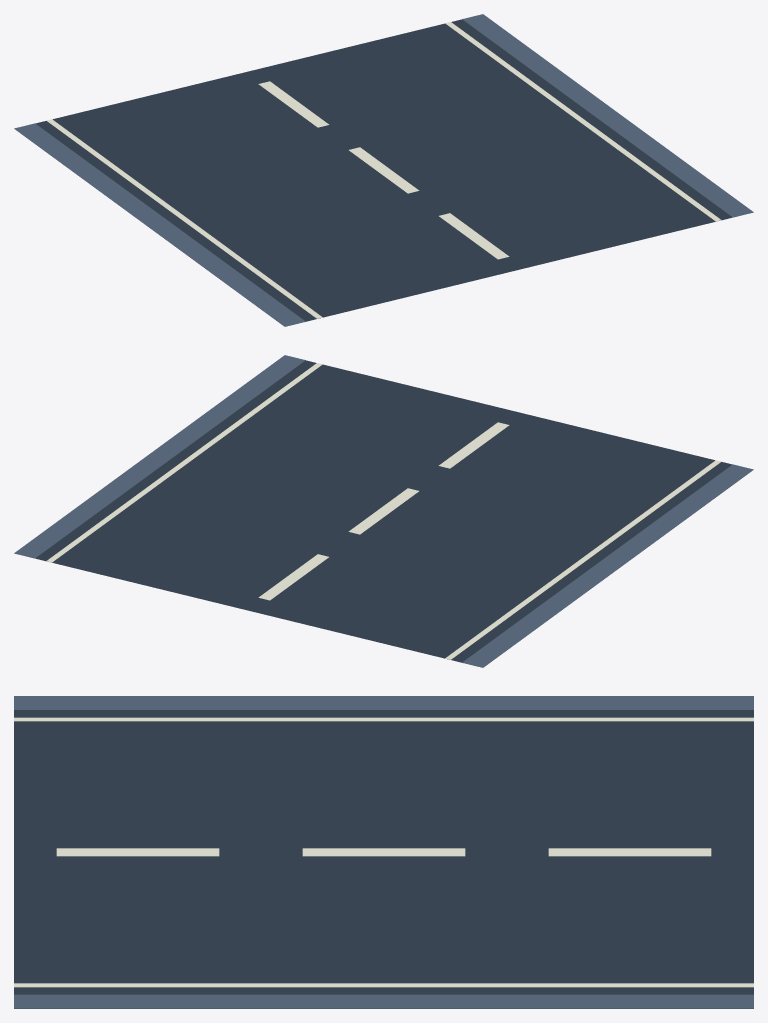
The model's file is a-low-poly-30-metre-cobblestone-road-with-street-lights-511-lib.glb.
3 renders of one model, top to bottom at view 1: azimuth 30°, elevation 25°; view 2: azimuth 150°, elevation 25°; view 3: azimuth 270°, elevation 25°, orthographic. The views are drawn at different scales.
Parts seen in each view (by area): view 1: road_straight_4m_surface, road_straight_4m_shoulder_-1, road_straight_4m_shoulder_1, road_straight_4m_edge_1, road_straight_4m_edge_-1, road_straight_4m_dash_0, road_straight_4m_dash_2, road_straight_4m_dash_1; view 2: road_straight_4m_surface, road_straight_4m_shoulder_-1, road_straight_4m_shoulder_1, road_straight_4m_edge_1, road_straight_4m_edge_-1, road_straight_4m_dash_0, road_straight_4m_dash_2, road_straight_4m_dash_1; view 3: road_straight_4m_surface, road_straight_4m_shoulder_1, road_straight_4m_shoulder_-1, road_straight_4m_edge_1, road_straight_4m_edge_-1, road_straight_4m_dash_0, road_straight_4m_dash_1, road_straight_4m_dash_2.
Part boxes in pixels (bbox=[...]): road_straight_4m_surface: bbox=[16, 19, 753, 326]; road_straight_4m_shoulder_-1: bbox=[14, 123, 305, 326]; road_straight_4m_shoulder_1: bbox=[462, 14, 753, 217]; road_straight_4m_edge_1: bbox=[445, 22, 721, 221]; road_straight_4m_edge_-1: bbox=[46, 119, 322, 318]; road_straight_4m_dash_0: bbox=[439, 213, 509, 259]; road_straight_4m_dash_2: bbox=[258, 81, 329, 127]; road_straight_4m_dash_1: bbox=[349, 147, 419, 193]; road_straight_4m_surface: bbox=[14, 360, 751, 667]; road_straight_4m_shoulder_-1: bbox=[462, 464, 753, 667]; road_straight_4m_shoulder_1: bbox=[14, 355, 305, 558]; road_straight_4m_edge_1: bbox=[46, 363, 322, 562]; road_straight_4m_edge_-1: bbox=[445, 460, 721, 659]; road_straight_4m_dash_0: bbox=[438, 422, 509, 468]; road_straight_4m_dash_2: bbox=[258, 554, 328, 600]; road_straight_4m_dash_1: bbox=[348, 488, 418, 534]; road_straight_4m_surface: bbox=[14, 710, 753, 1008]; road_straight_4m_shoulder_1: bbox=[14, 994, 753, 1008]; road_straight_4m_shoulder_-1: bbox=[14, 696, 753, 709]; road_straight_4m_edge_1: bbox=[14, 983, 753, 987]; road_straight_4m_edge_-1: bbox=[14, 717, 753, 721]; road_straight_4m_dash_0: bbox=[56, 848, 219, 856]; road_straight_4m_dash_1: bbox=[302, 848, 465, 856]; road_straight_4m_dash_2: bbox=[548, 848, 711, 856].
Size of the model in its own units: 4 by 0.0015 by 4.
